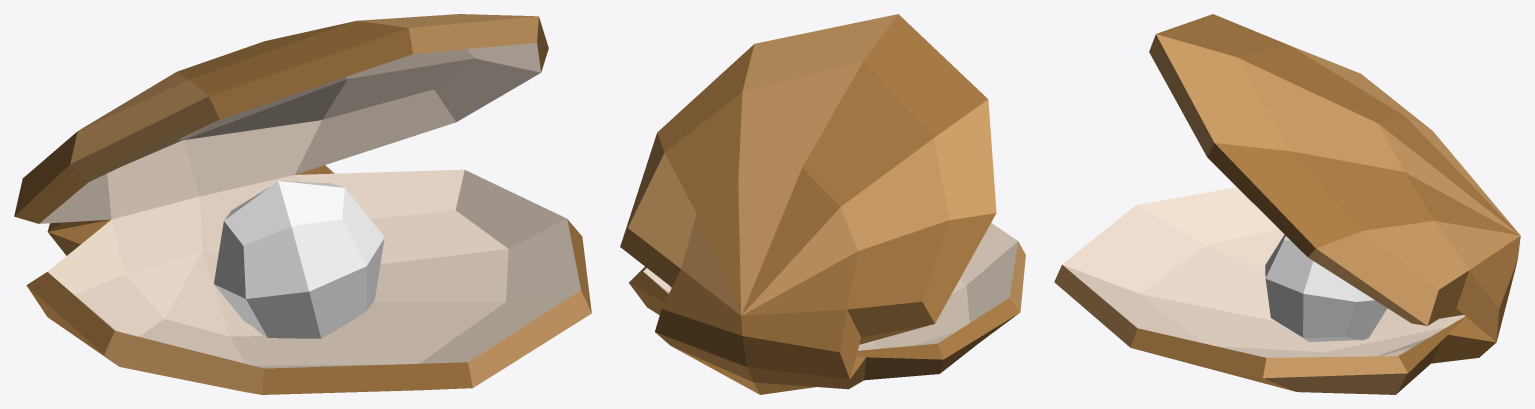
Rendered from nature_clam-pearl.fbx.
The picture shows the model from 3 angles, left to right: view 1: azimuth 30°, elevation 25°; view 2: azimuth 150°, elevation 25°; view 3: azimuth 270°, elevation 25°; orthographic projection. The views are drawn at different scales.
Parts seen in each view (by area): view 1: nature_clam_pearl; view 2: nature_clam_pearl; view 3: nature_clam_pearl.
Boxes of the visible parts, box(x1,y1,x2,y2) form: nature_clam_pearl: box(14, 14, 591, 394); nature_clam_pearl: box(620, 14, 1025, 394); nature_clam_pearl: box(1054, 14, 1520, 394).
Bounding box in the file's own units: 188 × 147 × 200.
